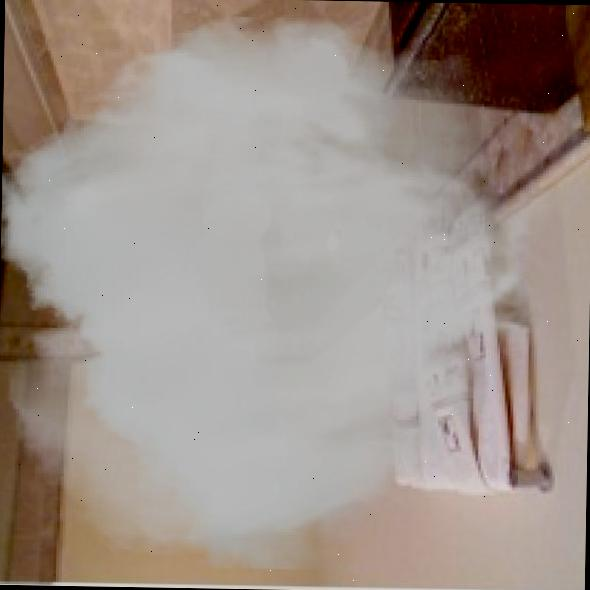smoke: (0, 4, 566, 574)
